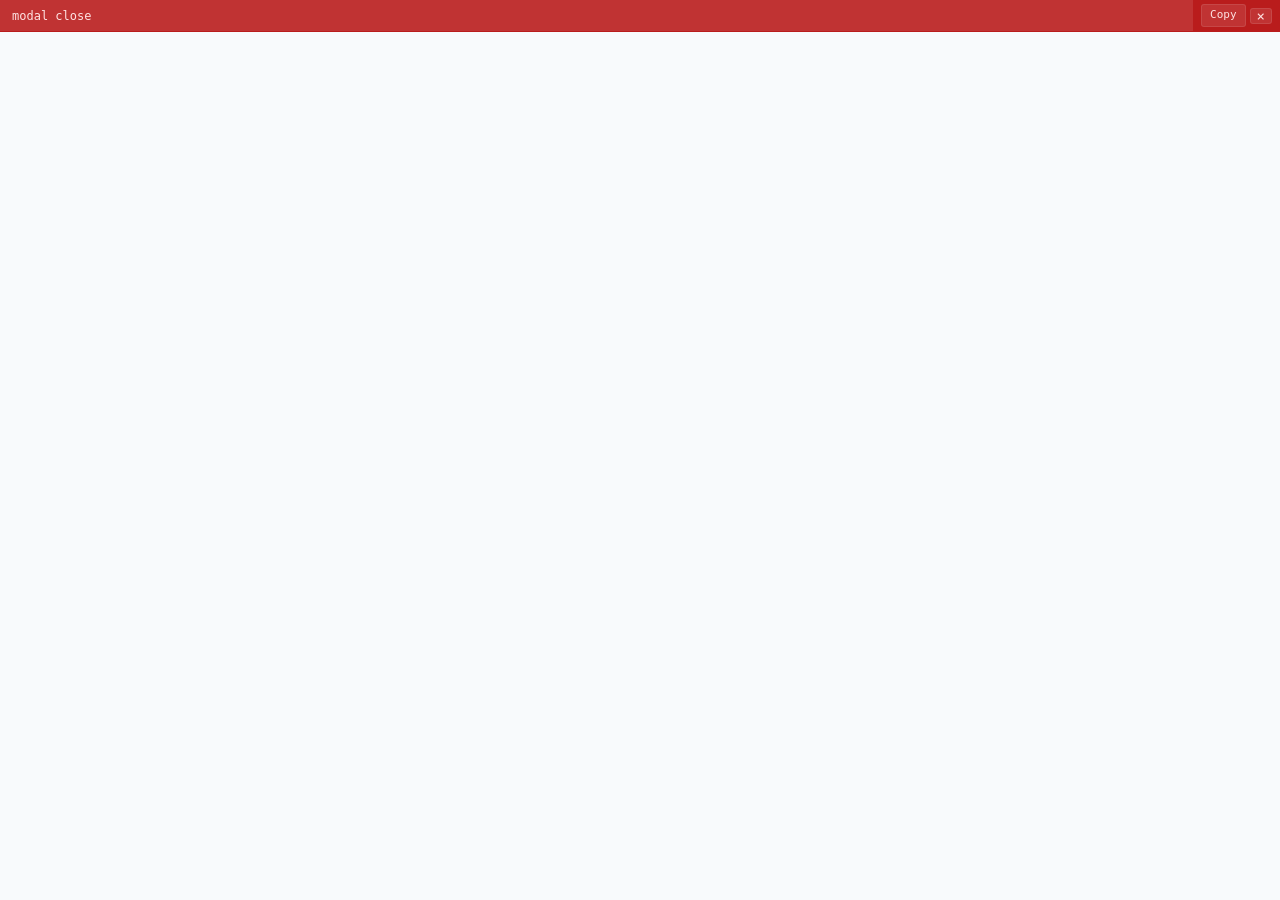
Scenario: ErrorBanner (Sprint 13+) › modal × button closes the viewer without clearing store error
Click the button with test id "error-banner-message" at (52, 16), box [0,0,1193,31]
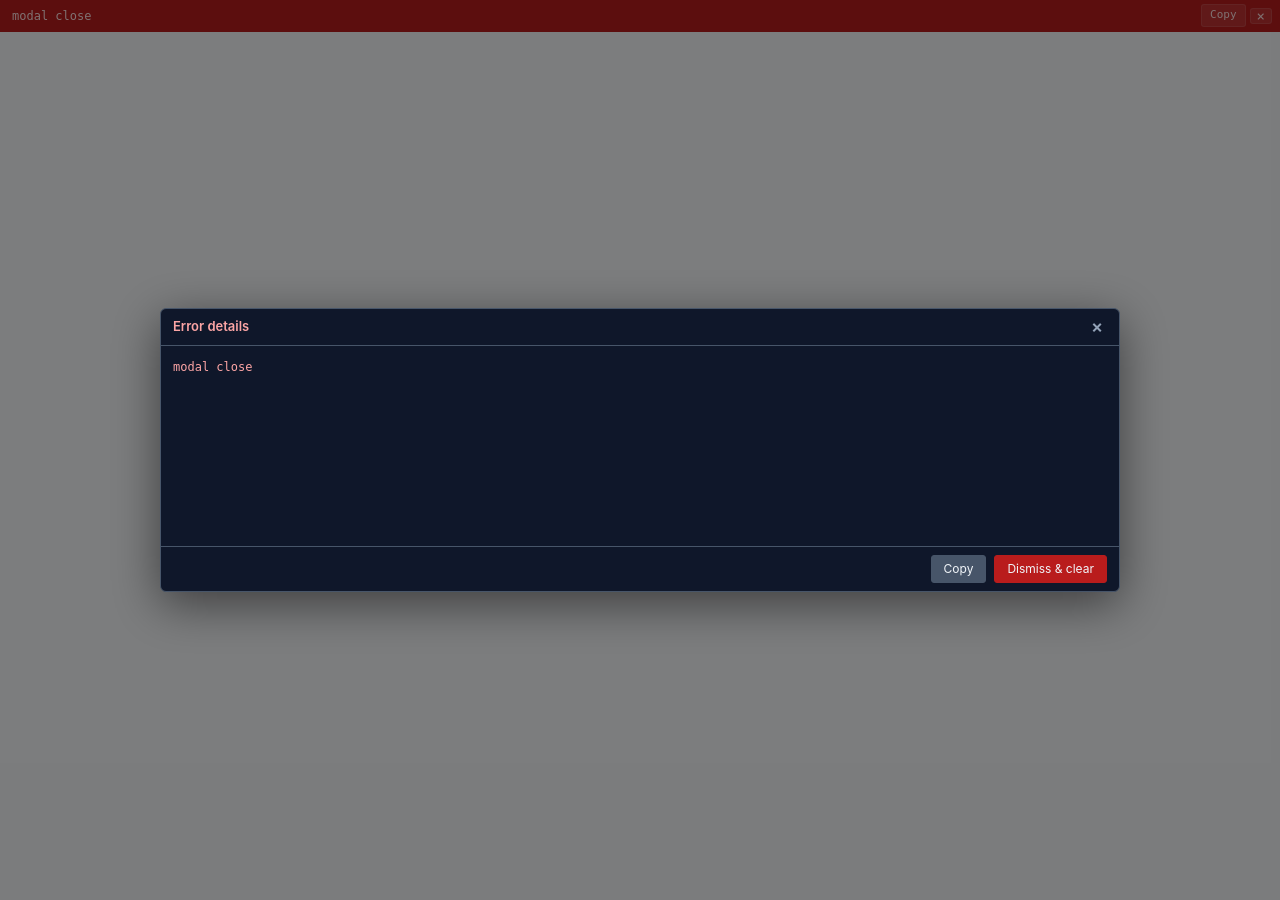
Expected: the dialog with test id "error-viewer-overlay" is shown
Click the button with test id "error-viewer-close" at (1097, 327), box [1087,318,1107,336]
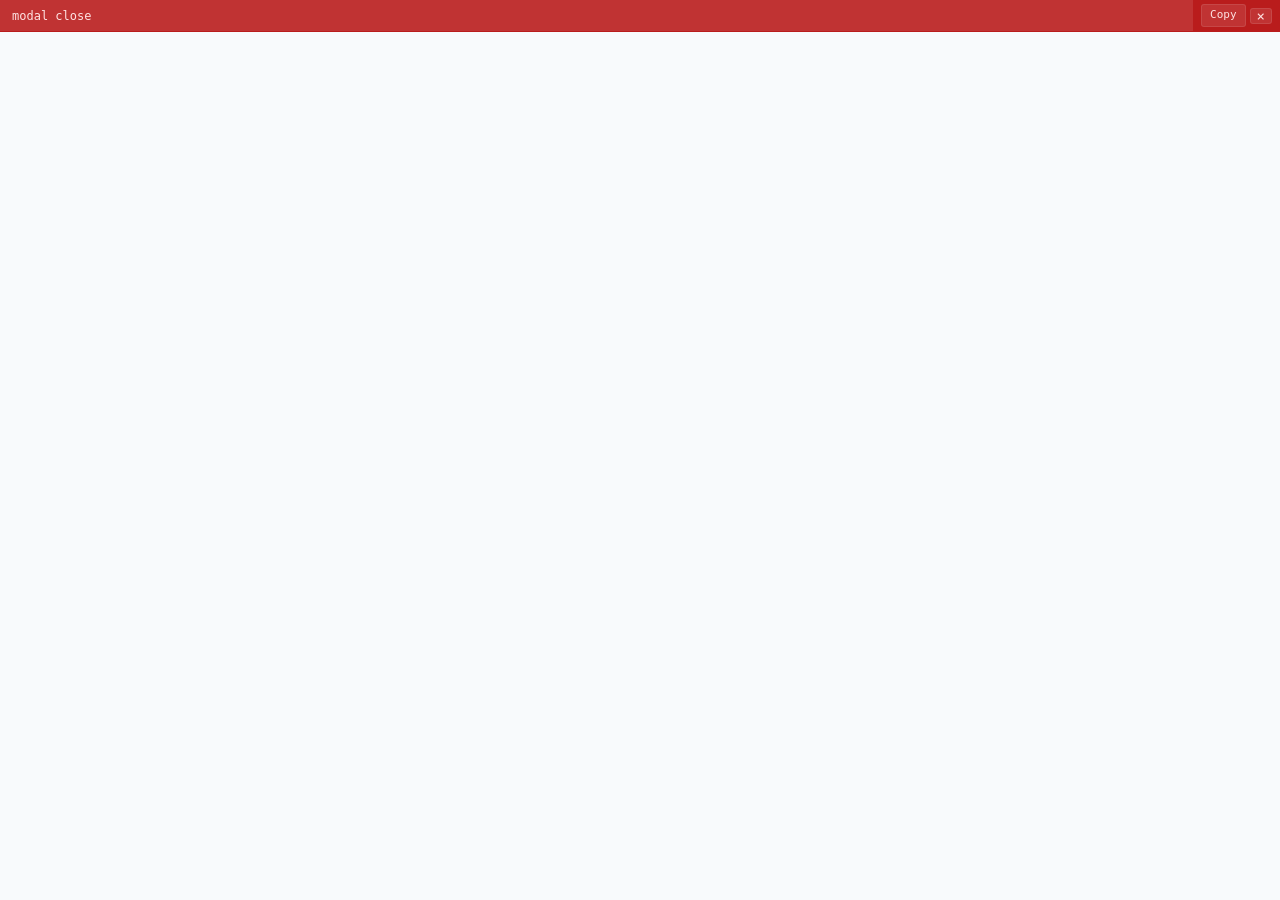
Expected: the message "modal close Copy ×" is shown, [0,0,1279,32]
Expected: the dialog with test id "error-viewer-overlay" is gone
